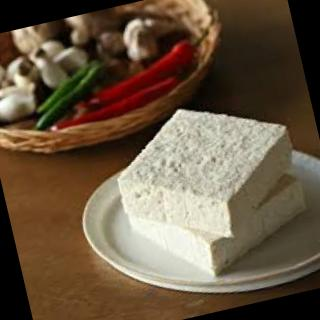Tahu: (94, 82, 320, 308)
